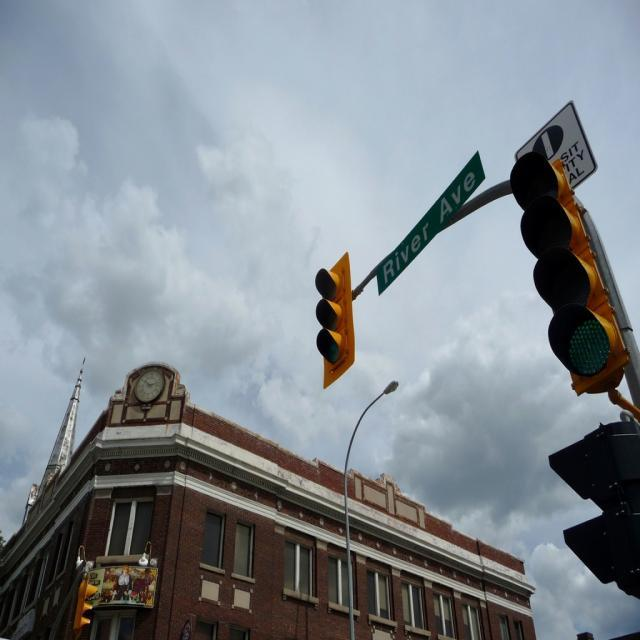traffic light: (511, 152, 629, 394), (315, 252, 355, 389)
